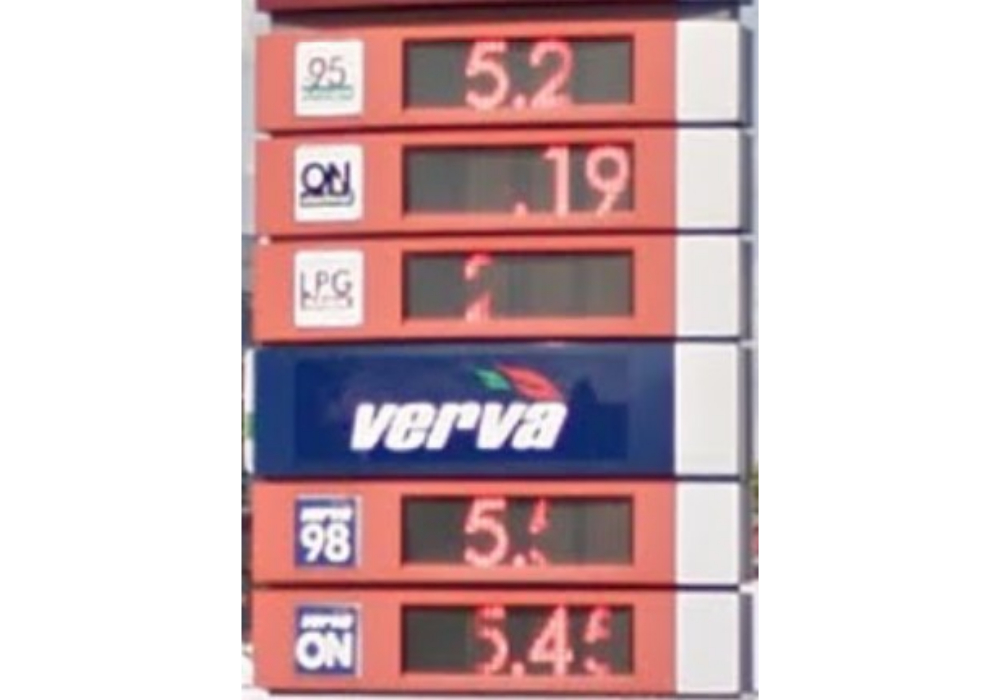LPG: (293, 243, 365, 329)
ON: (292, 140, 367, 223), (293, 599, 360, 677)
PB95: (292, 40, 364, 119)
PB98: (290, 493, 360, 571)
